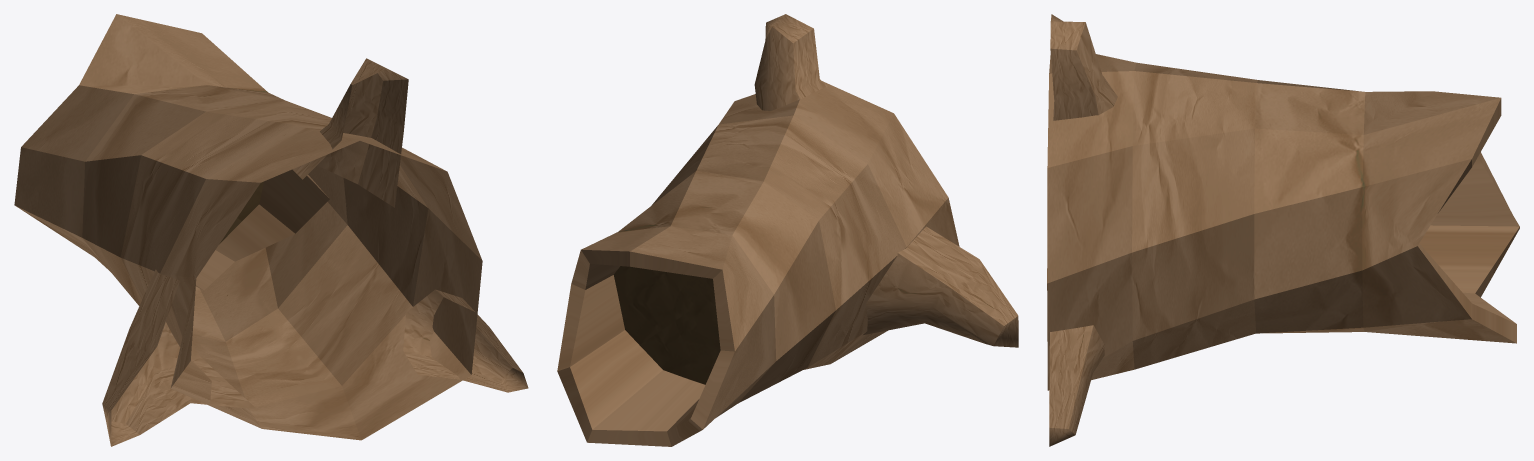
Rendered from stump.FBX.
The picture shows the model from 3 angles, left to right: view 1: azimuth 30°, elevation 25°; view 2: azimuth 150°, elevation 25°; view 3: azimuth 270°, elevation 25°; orthographic projection. The views are drawn at different scales.
Visible parts, largest first — view 1: Cylinder001; view 2: Cylinder001; view 3: Cylinder001.
Part boxes in pixels (left/top/right/bottom): Cylinder001: left=14, top=14, right=528, bottom=446; Cylinder001: left=557, top=14, right=1018, bottom=446; Cylinder001: left=1047, top=14, right=1519, bottom=446.
Bounding box in the file's own units: 56.64 × 47.85 × 55.78.
2 materials, 2 textured.
